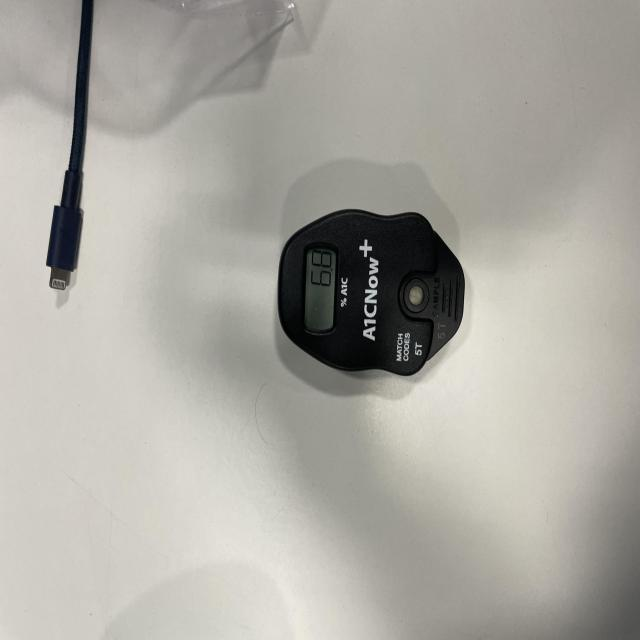hba1c: (276, 208, 469, 379)
